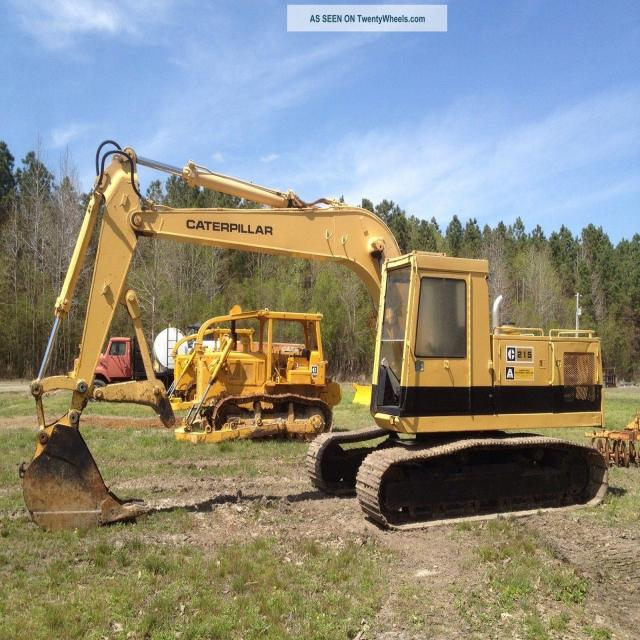Bulldozer: (159, 276, 343, 465)
Excavator: (19, 112, 617, 571)
